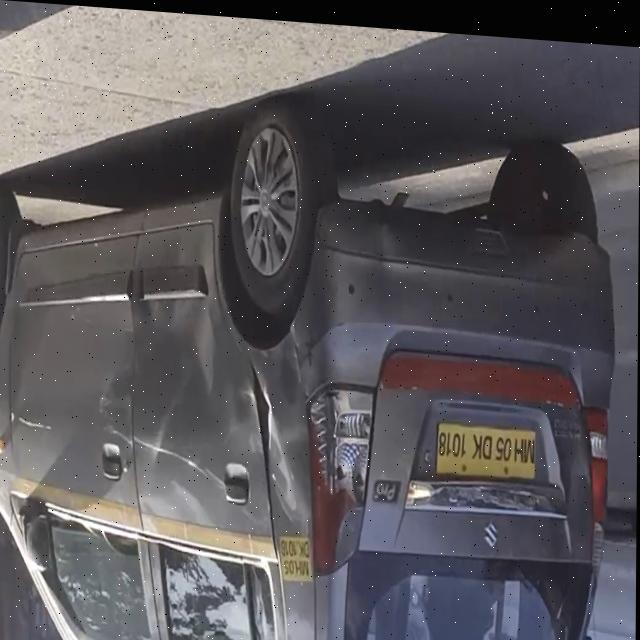plate: (435, 413, 538, 474), (277, 529, 313, 579)
